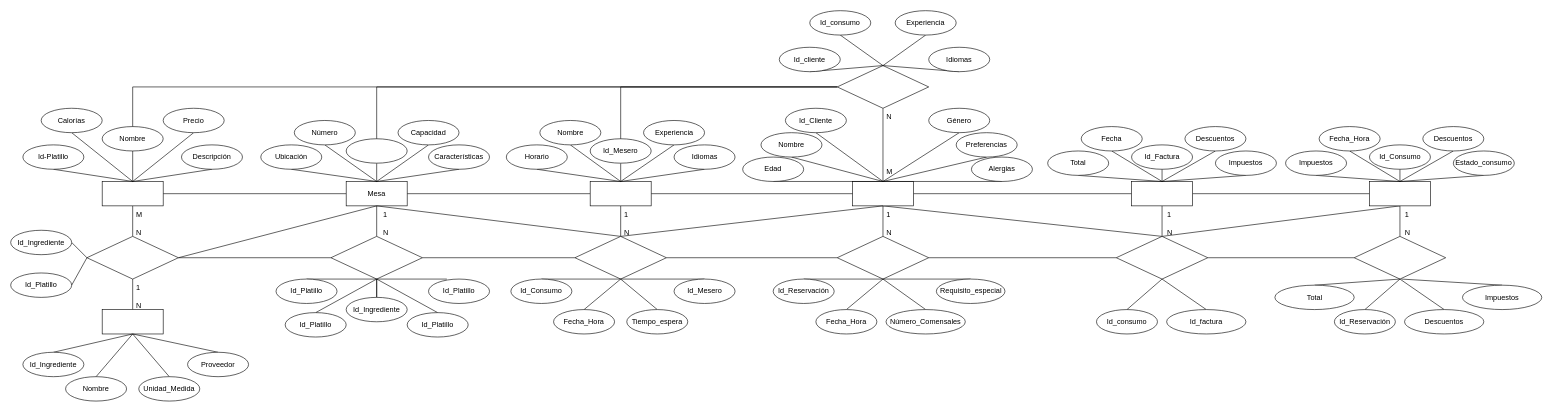
The diagram is 1552 pixels wide and 412 high, and some of its shapes have lost their labels. Here are the shapes that lost their labels. From the top down, the box of each, then its label:
(837, 65, 929, 108): Cliente_Consumo
(346, 138, 407, 163): Id_Mesa
(102, 181, 163, 206): Platillo
(590, 181, 651, 206): Mesero
(852, 181, 913, 206): Cliente
(1131, 181, 1193, 206): Factura
(1369, 181, 1430, 206): Consumo
(86, 236, 178, 279): Platillo_Ingrediente
(330, 236, 422, 279): Mesa_Reservación
(574, 236, 666, 279): Mesero_consumo
(837, 236, 929, 279): Cliente_Reservación
(1116, 236, 1208, 279): Factura_consumo
(1354, 236, 1446, 279): Consumo_reservación
(102, 309, 163, 334): Ingrediente
